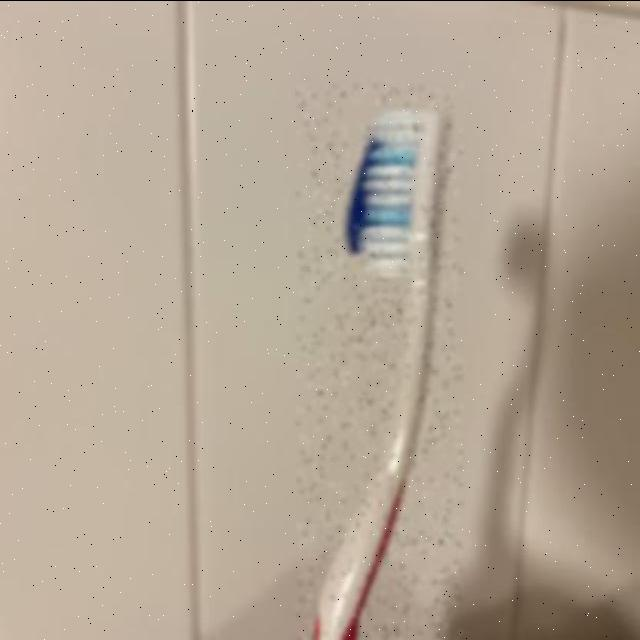toothbrush: (297, 84, 461, 640)
